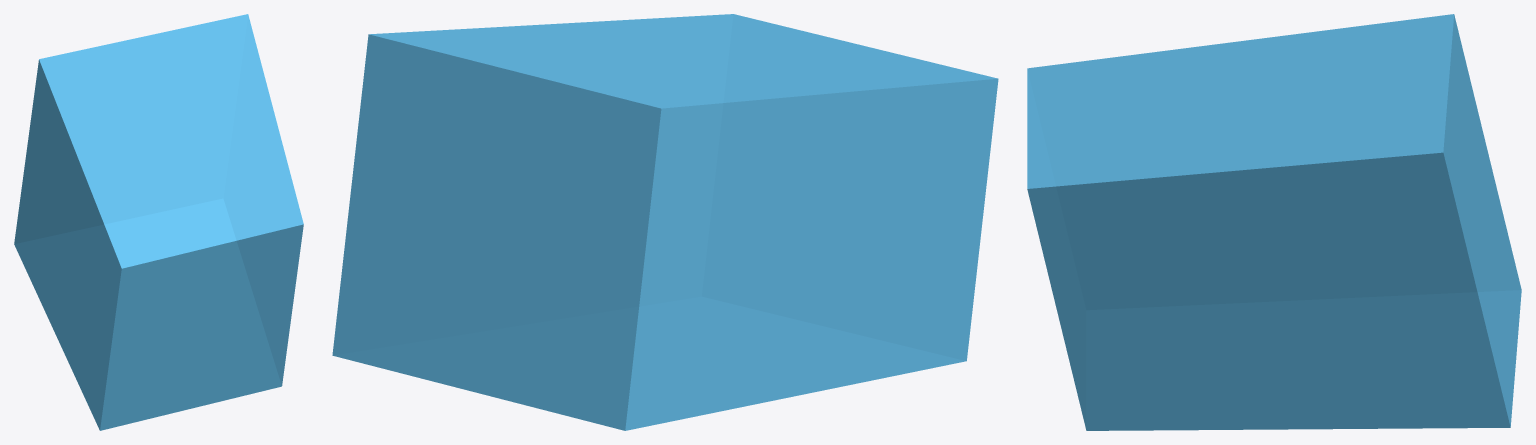
File: Event_420604493_HBrechit_30.fbx
The picture shows the model from 3 angles, left to right: view 1: azimuth 30°, elevation 25°; view 2: azimuth 150°, elevation 25°; view 3: azimuth 270°, elevation 25°; orthographic projection. The views are drawn at different scales.
Parts seen in each view (by area): view 1: Model; view 2: Model; view 3: Model.
Boxes of the visible parts, box(x1,y1,x2,y2) form: Model: box(14, 14, 303, 430); Model: box(332, 14, 998, 430); Model: box(1027, 14, 1521, 430).
Bounding box in the file's own units: 0.6441 × 0.5602 × 0.7264.
